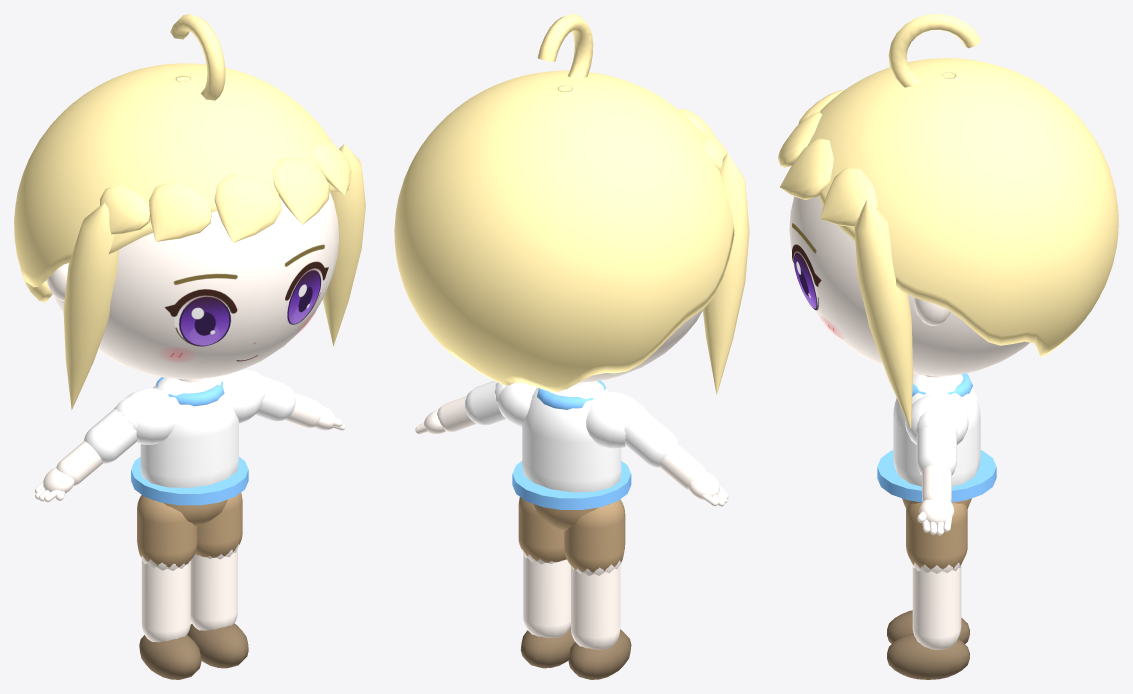
File: sunny.glb
3 views of the same model, side by side, from view 1: azimuth 30°, elevation 25°; view 2: azimuth 150°, elevation 25°; view 3: azimuth 270°, elevation 25° (orthographic).
Parts seen in each view (by area): view 1: Head, Legs, Upper, ArmR, ArmL; view 2: Head, Legs, Upper, ArmR, ArmL; view 3: Head, Legs, Upper, ArmL.
Boxes of the visible parts, left/top/right/bottom form: Head: left=14, top=14, right=365, bottom=410; Legs: left=137, top=492, right=248, bottom=679; Upper: left=124, top=370, right=263, bottom=526; ArmR: left=35, top=397, right=139, bottom=502; ArmL: left=242, top=369, right=345, bottom=430; Head: left=394, top=14, right=749, bottom=394; Legs: left=518, top=497, right=631, bottom=679; Upper: left=497, top=380, right=636, bottom=530; ArmR: left=622, top=400, right=728, bottom=506; ArmL: left=415, top=381, right=505, bottom=434; Head: left=778, top=14, right=1118, bottom=428; Legs: left=887, top=502, right=969, bottom=679; Upper: left=877, top=373, right=996, bottom=509; ArmL: left=916, top=408, right=957, bottom=535.
Size of the model in its own units: 1.68 by 3.4 by 1.6.
Materials: 8 (1 with a texture image).
